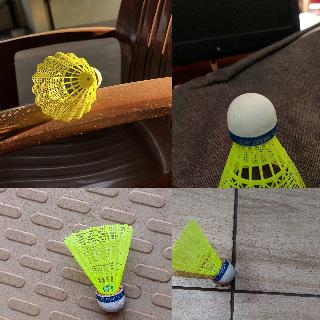shuttlecock: (213, 89, 313, 187), (64, 222, 132, 312), (31, 51, 100, 121), (172, 219, 235, 286)
